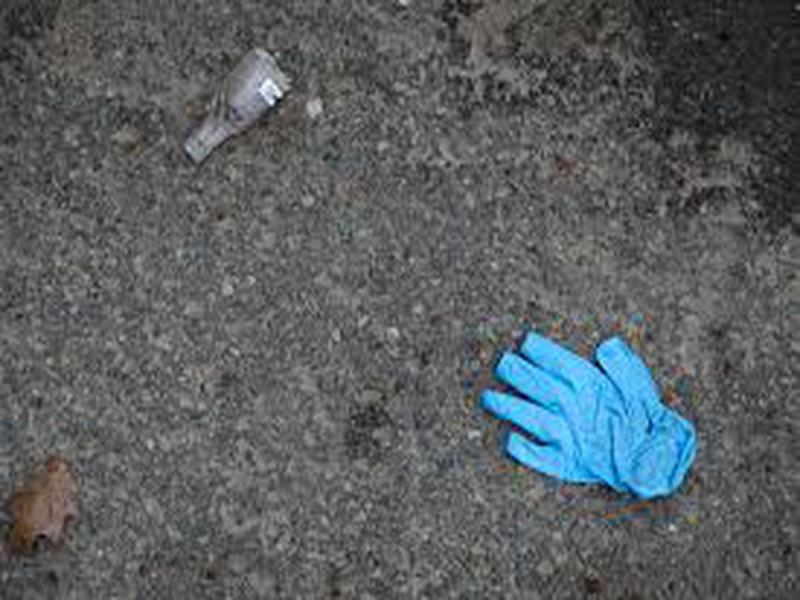bottle: (177, 46, 294, 164)
gloves: (469, 328, 712, 504)
